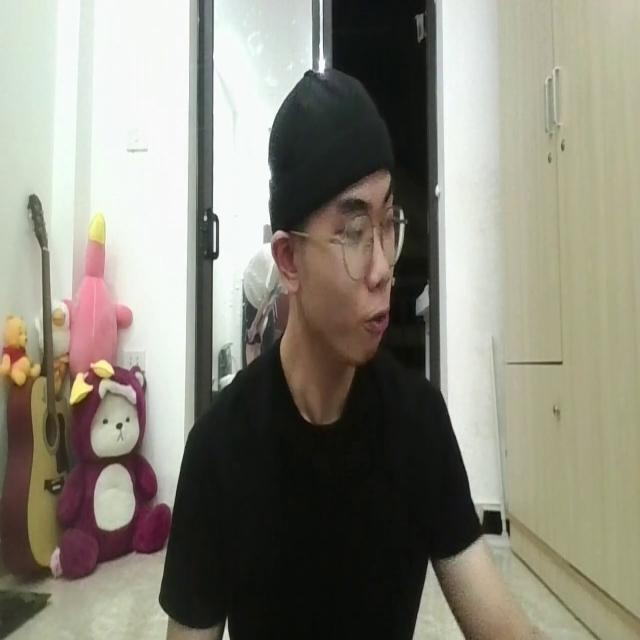student: (167, 50, 502, 640)
